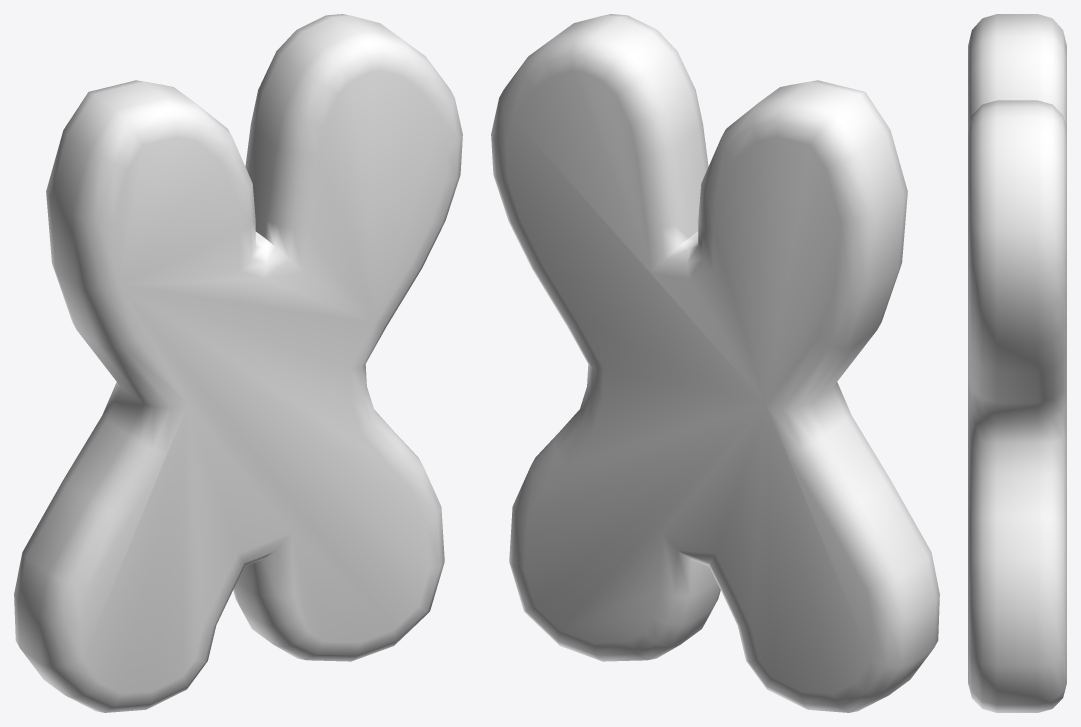
The model's file is Symbolx.fbx.
3 renders of one model, left to right at view 1: azimuth 30°, elevation 25°; view 2: azimuth 150°, elevation 25°; view 3: azimuth 270°, elevation 25°, orthographic. The views are drawn at different scales.
Parts seen in each view (by area): view 1: Vert.012; view 2: Vert.012; view 3: Vert.012.
Boxes of the visible parts, x1=… form: Vert.012: x1=14, y1=14, x2=462, y2=712; Vert.012: x1=491, y1=14, x2=939, y2=712; Vert.012: x1=968, y1=14, x2=1066, y2=712.
Bounding box in the file's own units: 216 × 307 × 46.33.
